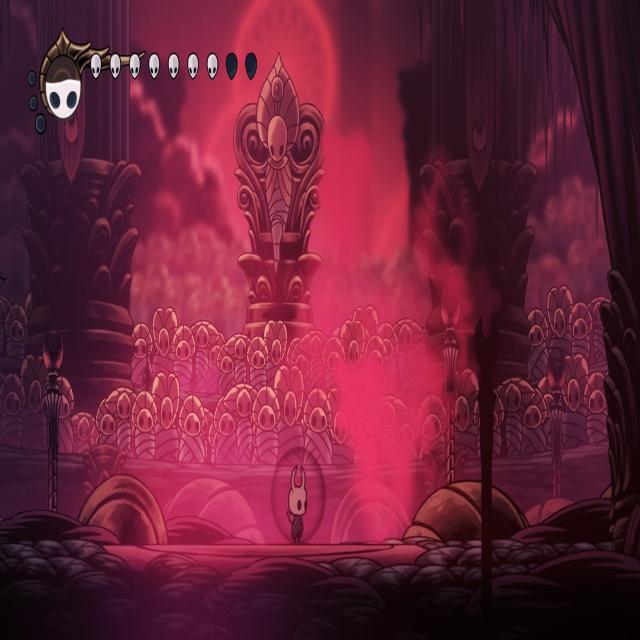Player: (282, 458, 312, 546)
